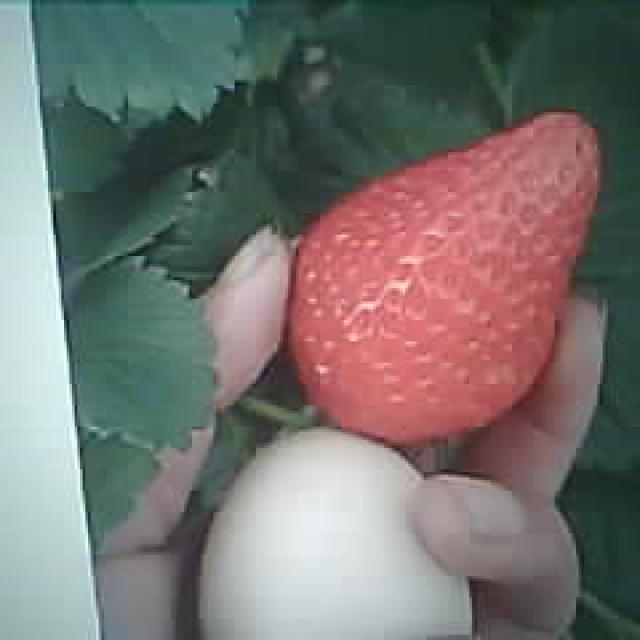strawberry: (289, 114, 602, 442)
